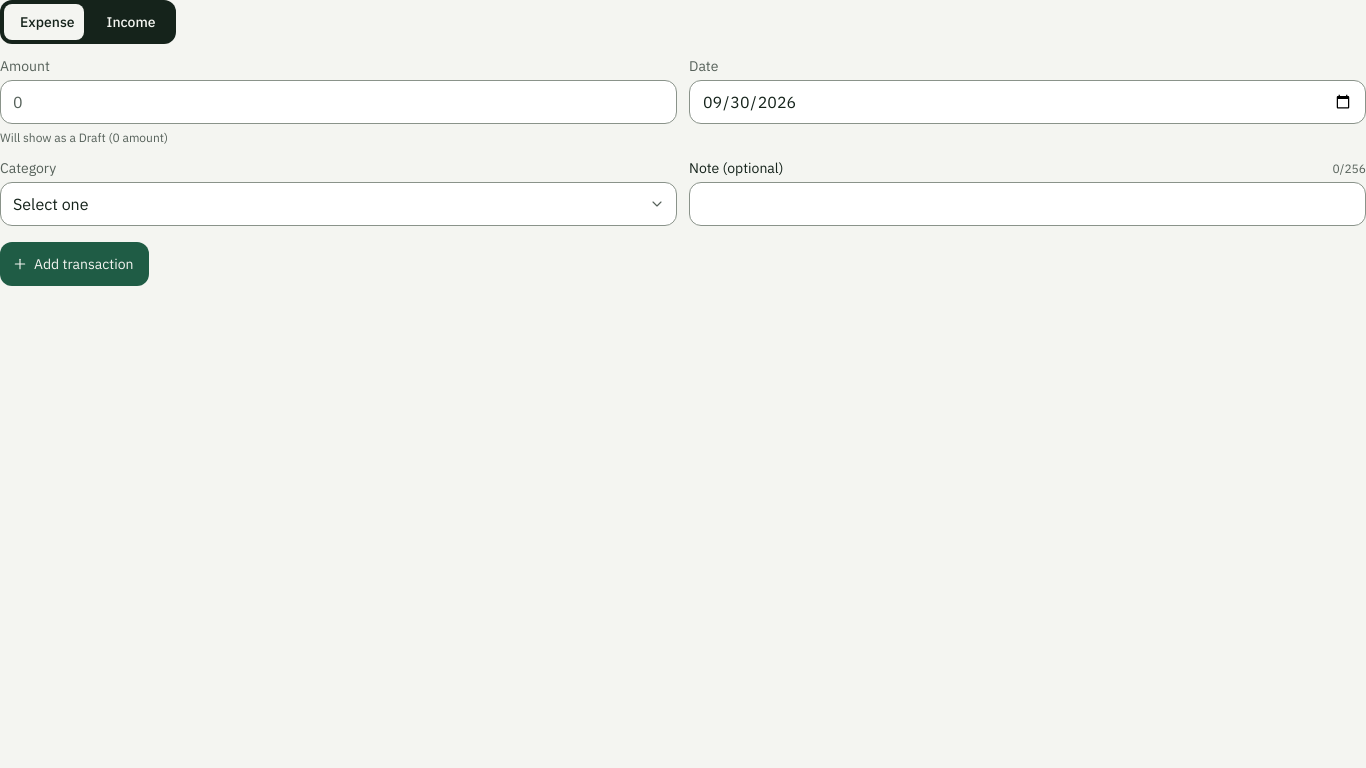
TransactionForm category creation › creates a new category and selects it
Select "+ Add new category…" in the dropdown at (338, 204), box [0,182,677,226]
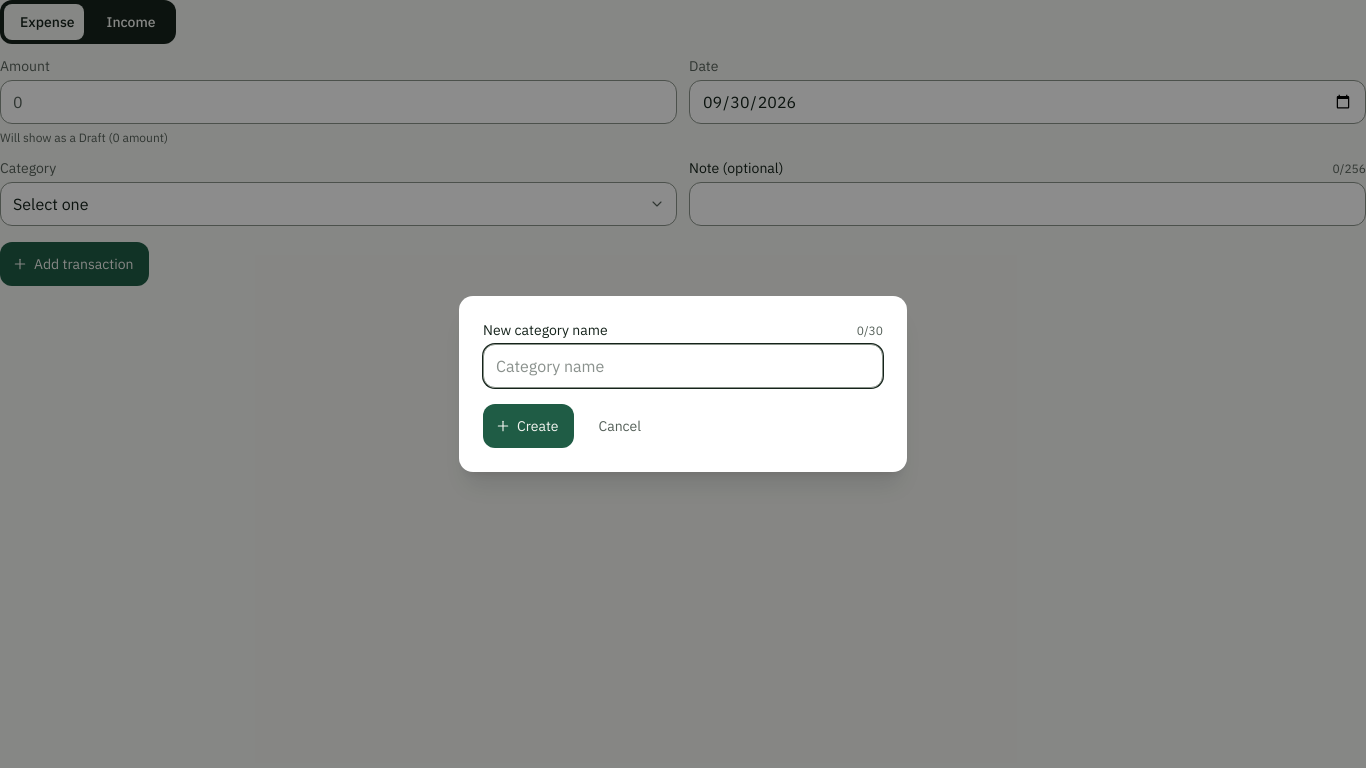
Type "Subscriptions" into the field with placeholder "category name" at (683, 366), box [483,344,883,388]
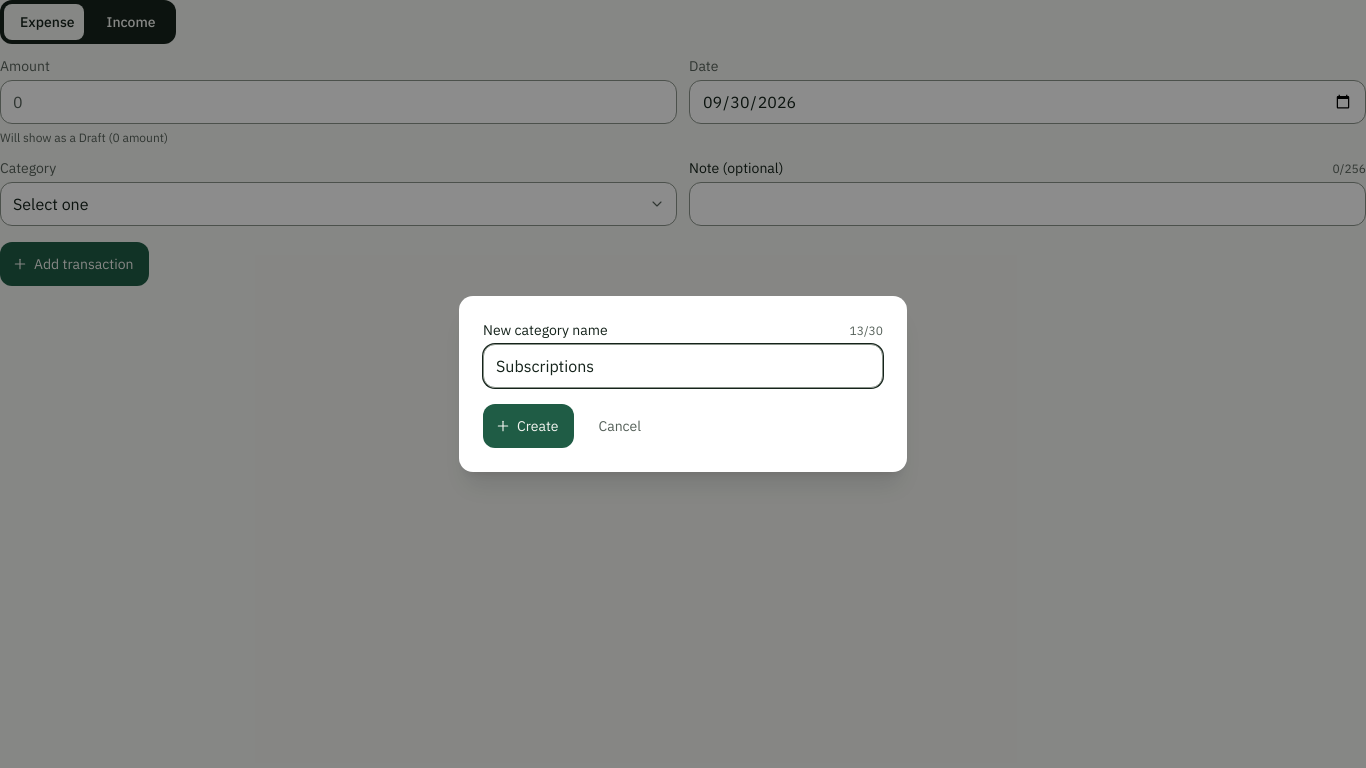
Click the button "Create" at (529, 426), box [483,404,574,448]
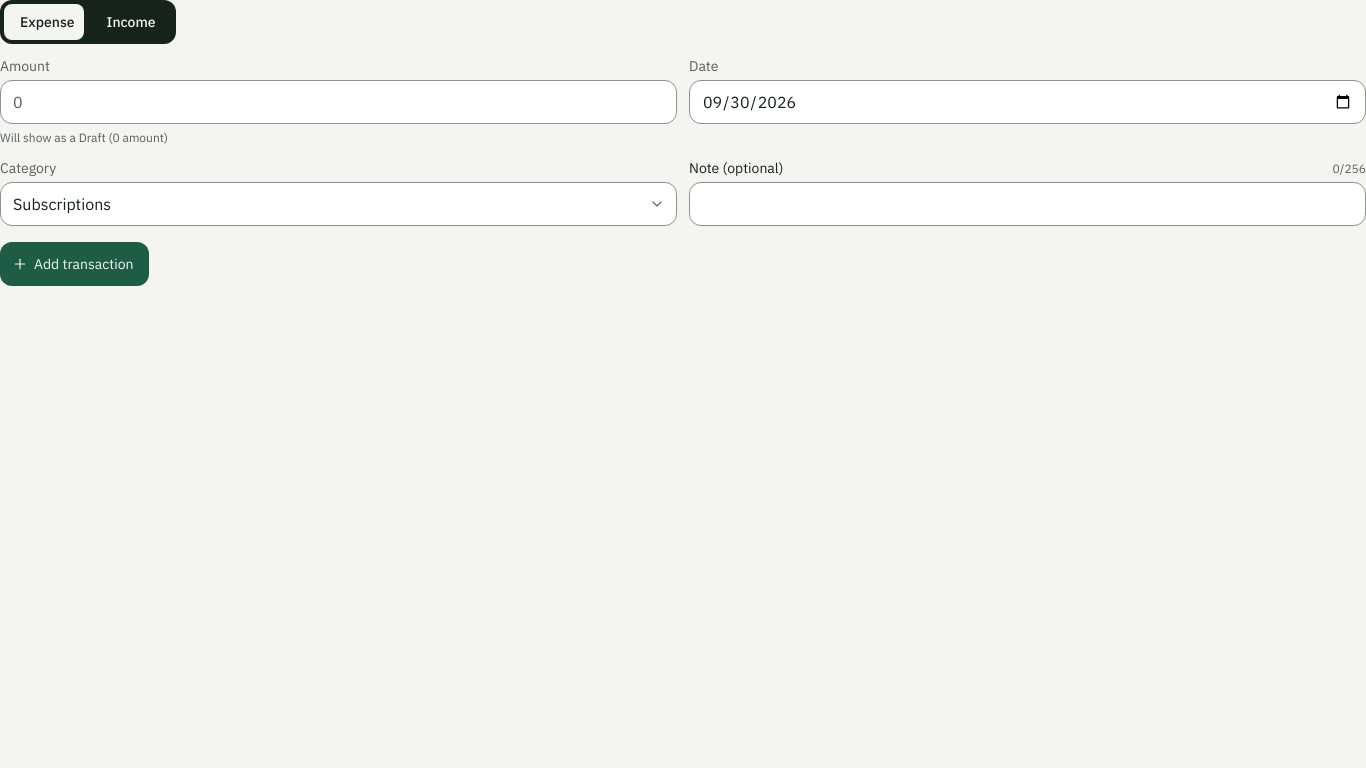
Now the text "New category name" is gone
